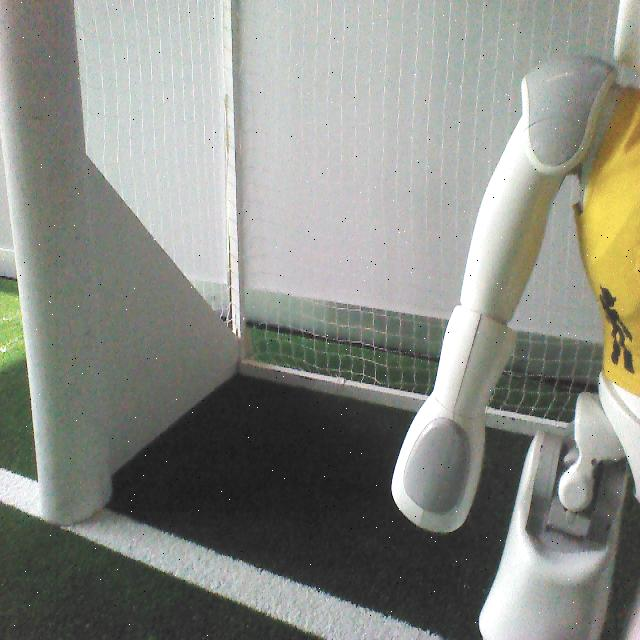goalpost: (0, 4, 112, 523)
